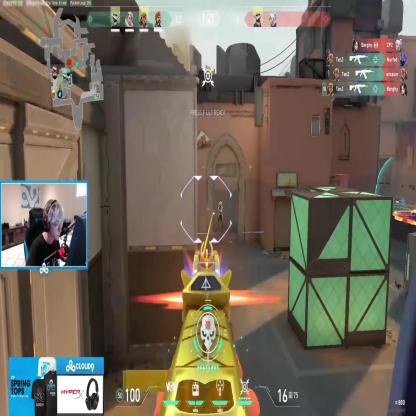enemy: (217, 201, 224, 228)
enemy_head: (219, 202, 222, 206)
